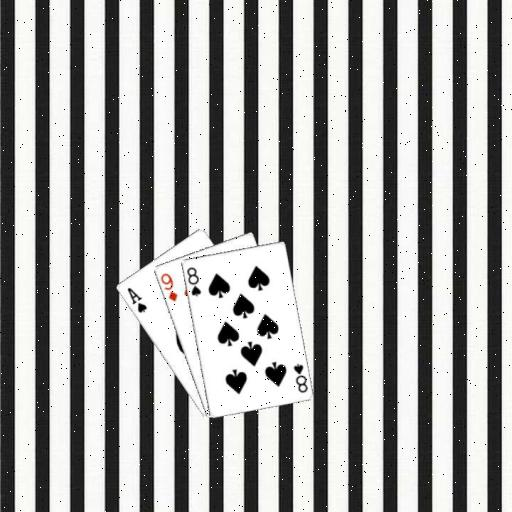8S: (184, 264, 202, 298), (291, 360, 309, 394)
9D: (157, 269, 179, 303)
AS: (124, 285, 148, 315)
